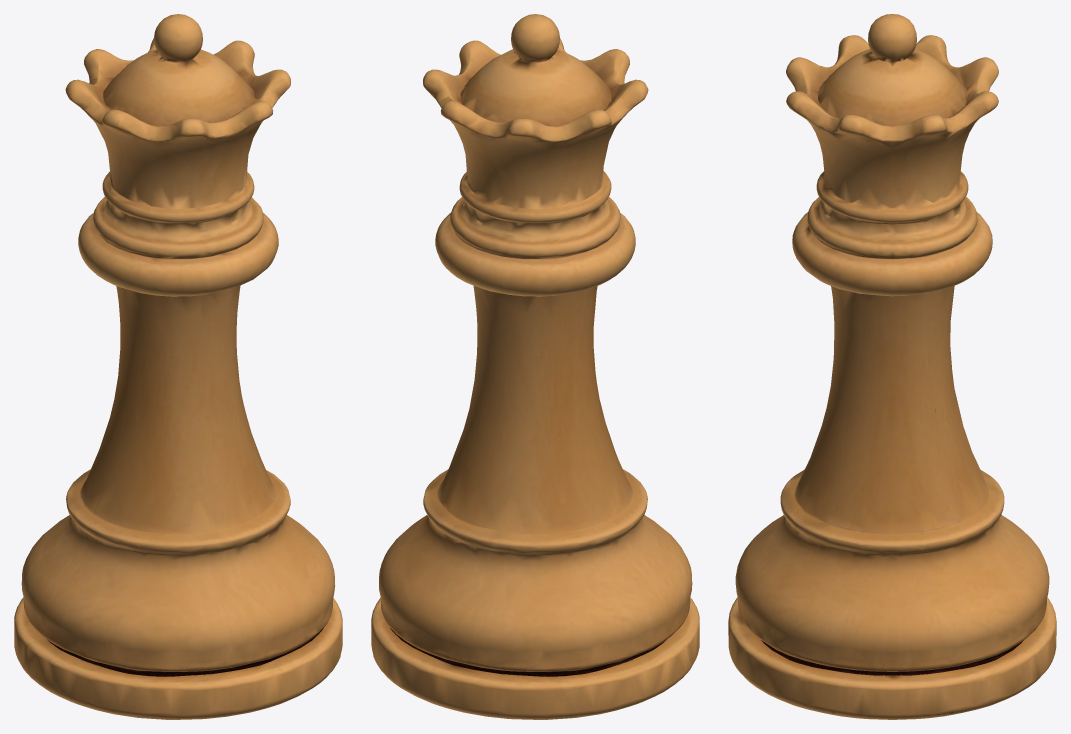
The model's file is queen_light.glb.
The picture shows the model from 3 angles, left to right: view 1: azimuth 30°, elevation 25°; view 2: azimuth 150°, elevation 25°; view 3: azimuth 270°, elevation 25°; orthographic projection.
Visible parts, largest first — view 1: geometry_0; view 2: geometry_0; view 3: geometry_0.
Part boxes in pixels (left/top/right/bottom): geometry_0: left=14, top=14, right=342, bottom=719; geometry_0: left=371, top=14, right=699, bottom=719; geometry_0: left=728, top=14, right=1056, bottom=719.
Size of the model in its own units: 0.6044 by 1.3 by 0.6044.
1 material, 1 textured.
